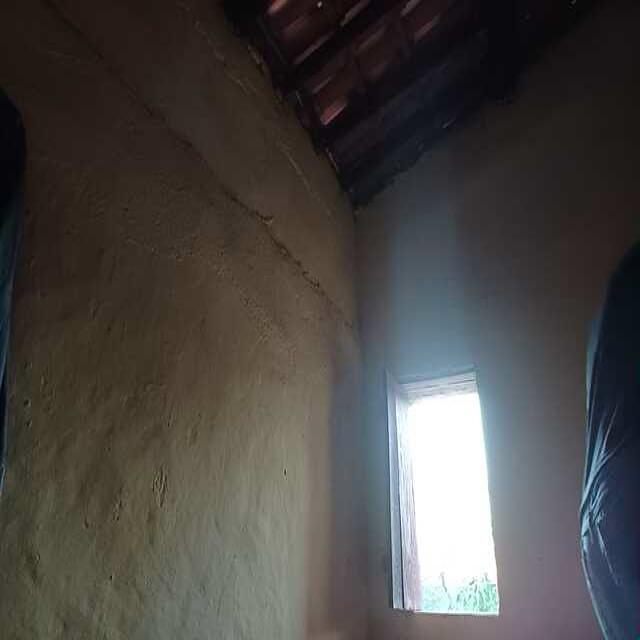pessoa: (557, 208, 640, 640)
